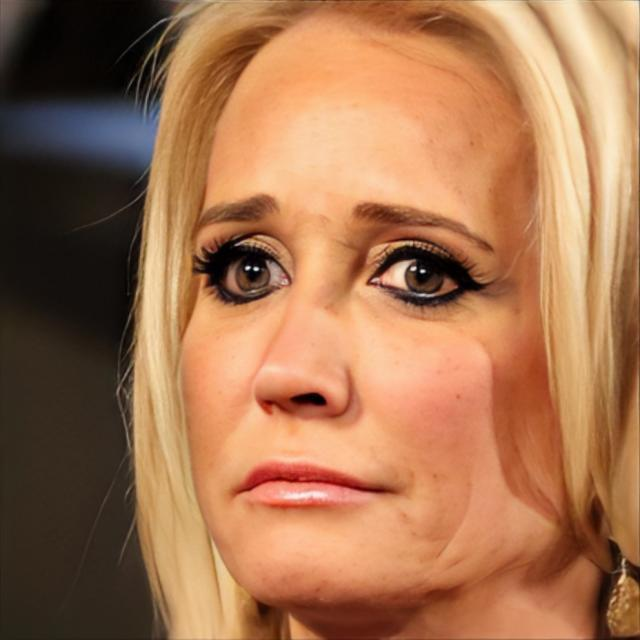sad: (174, 15, 549, 612)
